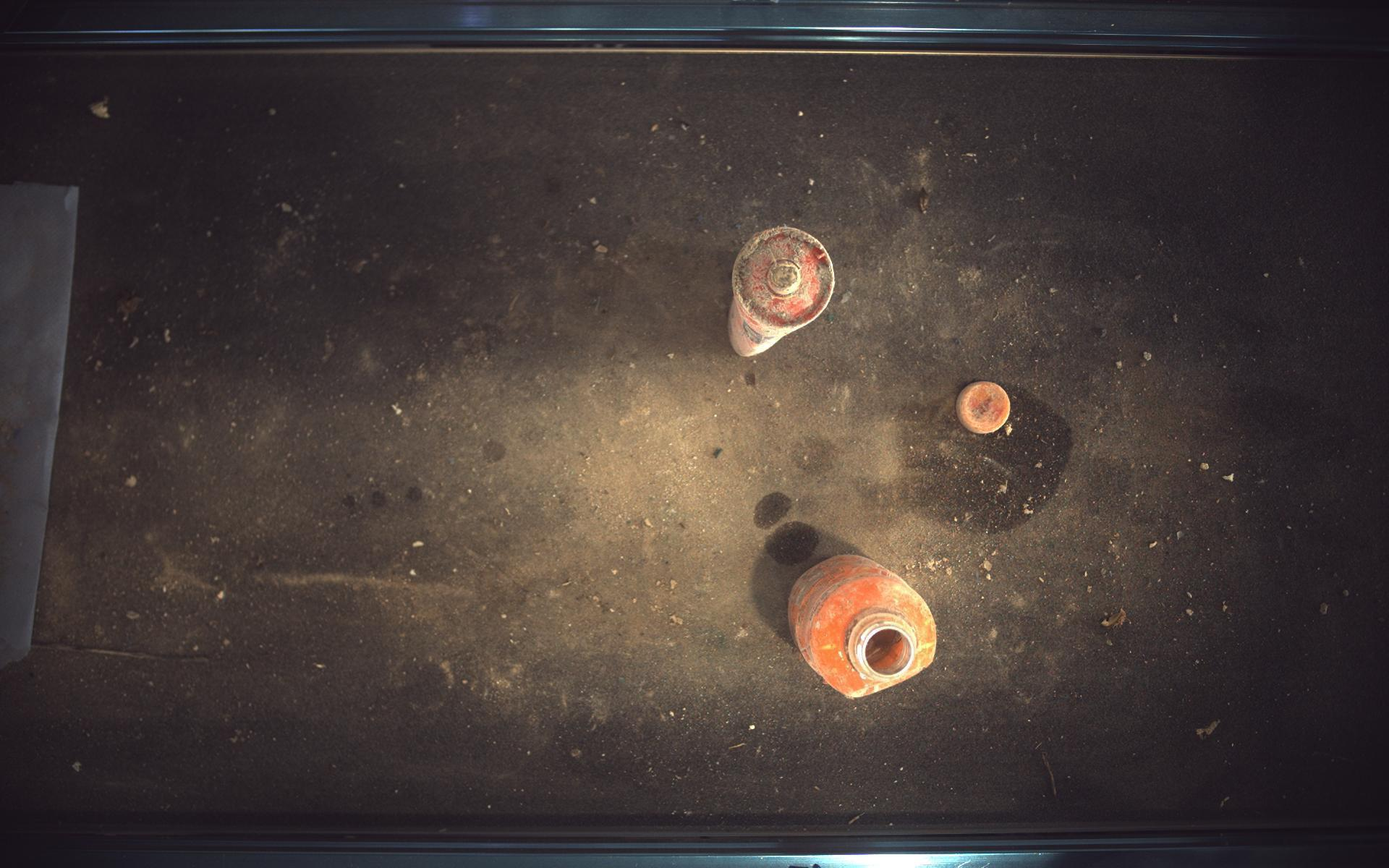general_w: (790, 556, 938, 699), (959, 382, 1013, 434)
